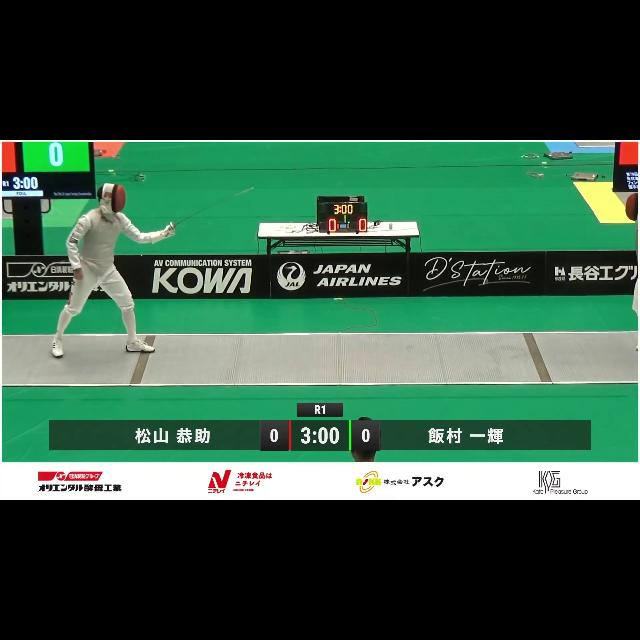blade: (166, 181, 260, 233)
